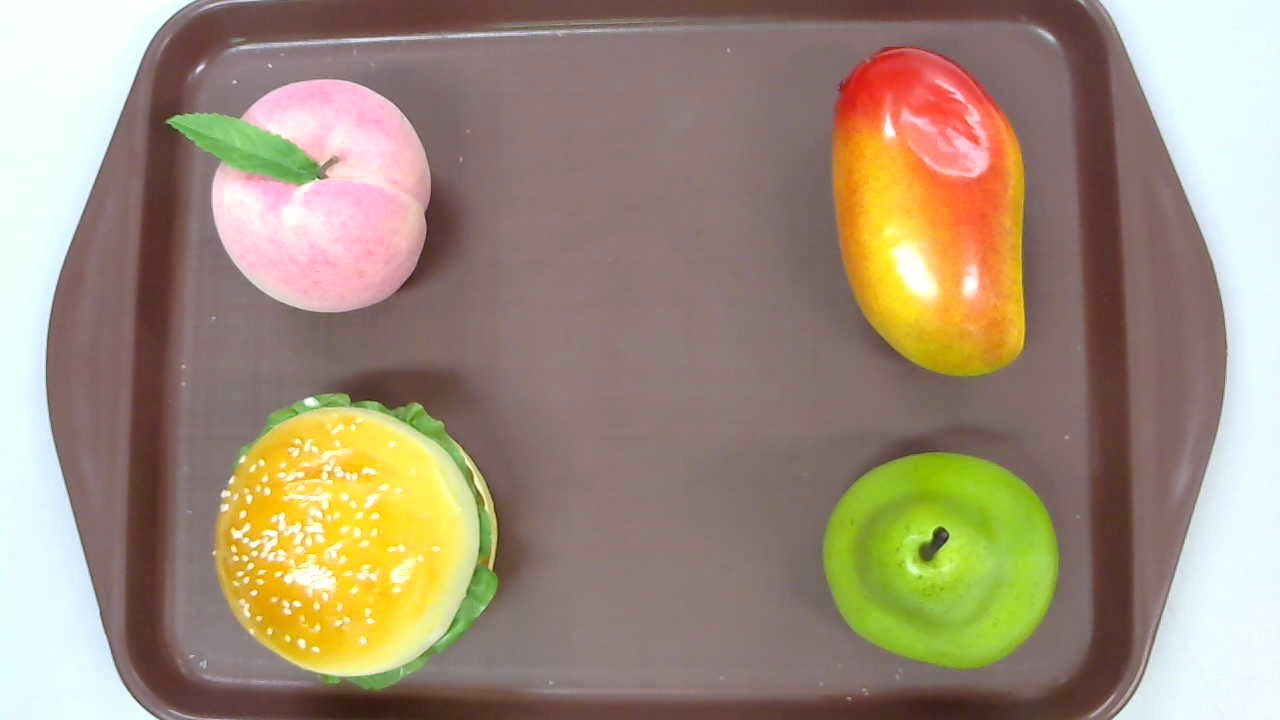green pear: (822, 453, 1060, 670)
hamburger: (213, 391, 499, 692)
peach: (165, 77, 432, 315)
red mango: (831, 47, 1028, 378)
